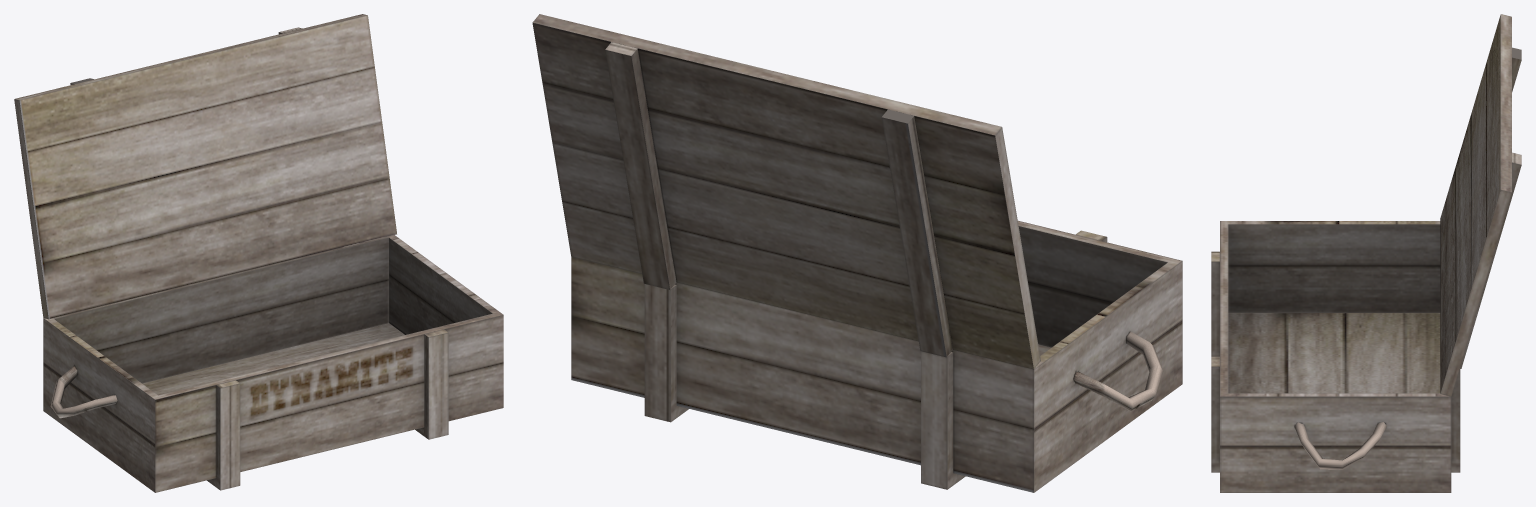
Rendered from box_open.FBX.
3 views of the same model, side by side, from view 1: azimuth 30°, elevation 25°; view 2: azimuth 150°, elevation 25°; view 3: azimuth 270°, elevation 25° (orthographic). The views are drawn at different scales.
Parts seen in each view (by area): view 1: box_open; view 2: box_open; view 3: box_open.
Boxes of the visible parts, x1,y1,x2,y2 form: box_open: [14, 14, 503, 492]; box_open: [532, 14, 1182, 492]; box_open: [1211, 14, 1521, 492].
Size of the model in its own units: 218 by 147 by 133.
